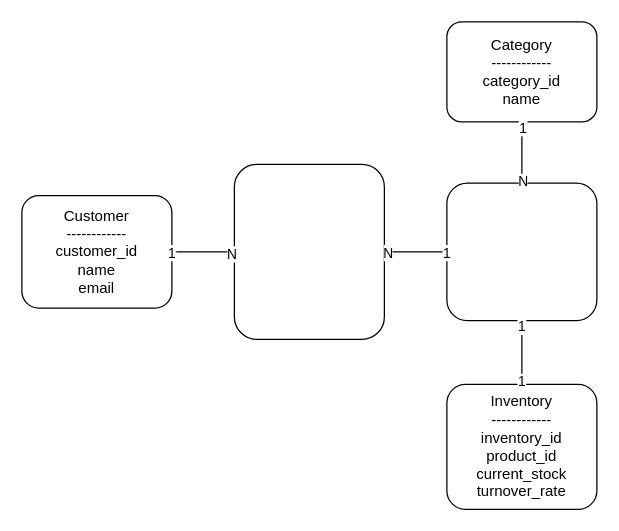
This 619x531 diagram has some shape labels left out. Here are the shapes that lost their labels. From the top down, the centre of each, then its label:
At [308,251]: "Sale ------------ sale_id customer_id product_id sale_date quantity total_amount".
At [521,251]: "Product ------------ product_id name unit_price category_id".
